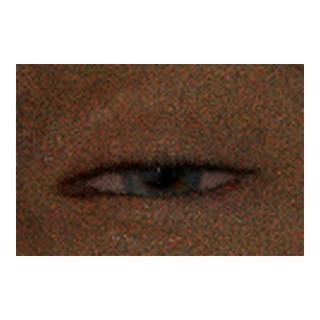pupil: (143, 153, 178, 188)
